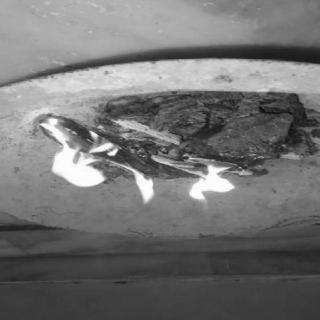Fire: (39, 110, 162, 210), (183, 158, 254, 215)
